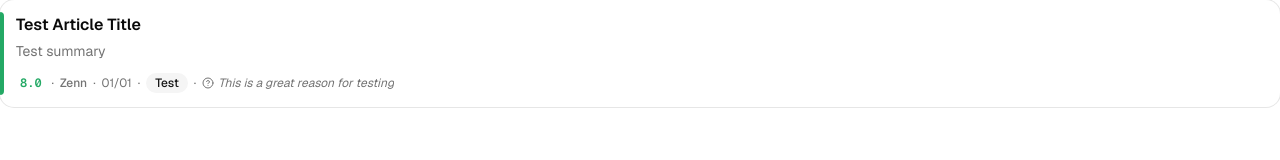
Scenario: NotForMeSwipe Component › shows error toast when NFM toggle fails
Press the mouse on the link "Test Article Title" at (78, 24), box [16,14,141,35]
Press the mouse on the link "Test Article Title" at (78, 24), box [16,14,141,35]
Press the mouse on the link "Test Article Title" at (78, 24), box [16,14,141,35]
Press the mouse on the link "Test Article Title" at (78, 24), box [16,14,141,35]
Press the mouse on the link "Test Article Title" at (78, 24), box [16,14,141,35]
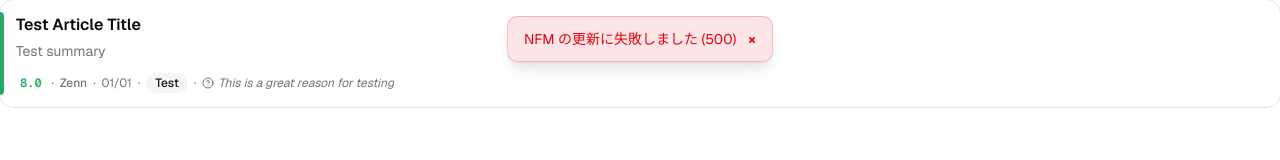
Now the text "NFM の更新に失敗しました (500)" is shown, box [524,29,736,49]
